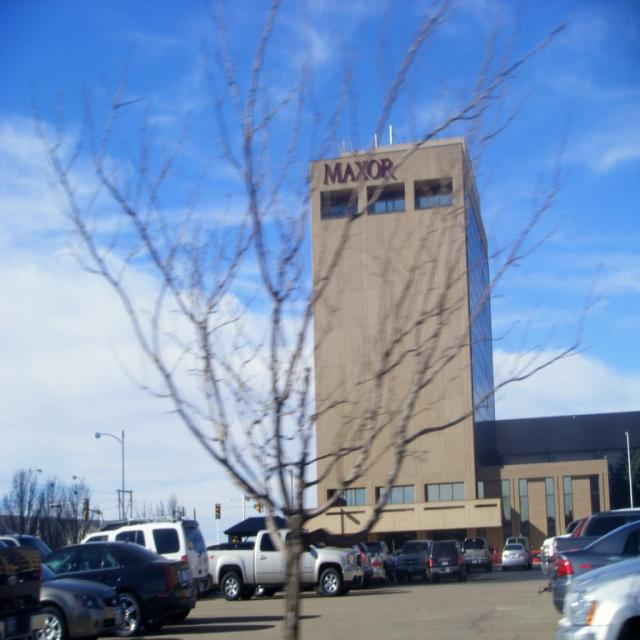car: (500, 540, 526, 566)
